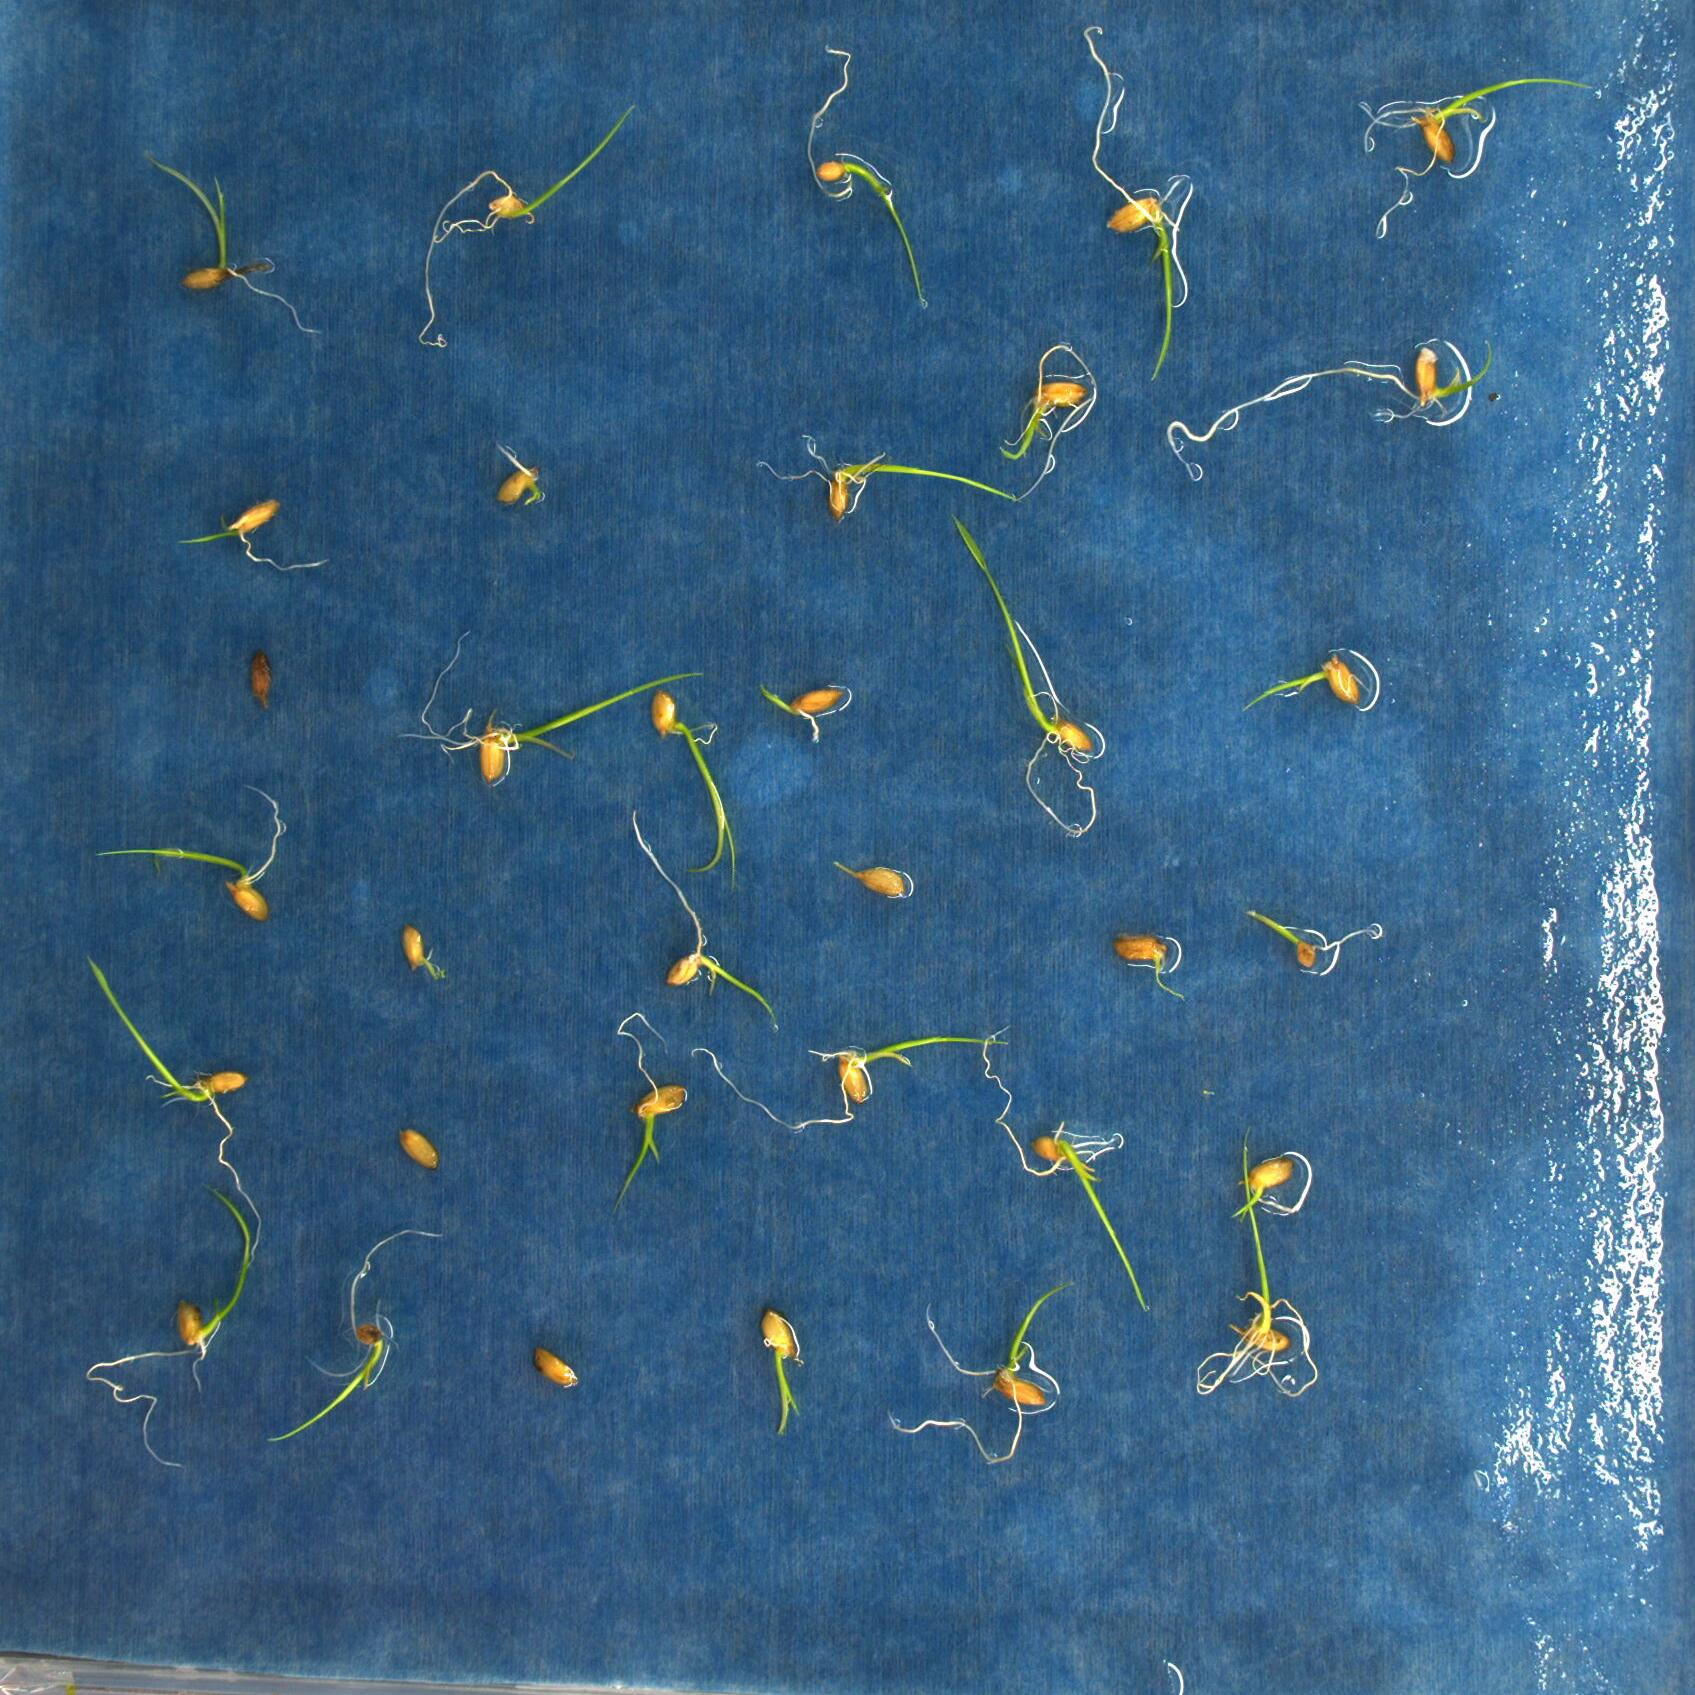not sprout: (834, 857, 913, 900), (397, 1121, 439, 1173), (539, 1346, 579, 1399), (244, 646, 276, 708)
sprout: (413, 101, 643, 349), (1159, 323, 1489, 489), (92, 962, 262, 1259), (953, 504, 1099, 834), (399, 632, 705, 789), (986, 1026, 1155, 1309), (95, 1198, 248, 1475), (1080, 26, 1191, 380), (1354, 76, 1589, 237), (278, 1231, 438, 1451), (806, 45, 931, 314), (1197, 1132, 1319, 1406), (630, 802, 779, 1028), (688, 1038, 1014, 1139), (891, 1282, 1069, 1464), (144, 158, 323, 335), (98, 781, 282, 920), (757, 428, 1003, 518), (653, 691, 745, 882), (1000, 338, 1091, 497), (618, 1012, 683, 1217), (175, 494, 324, 571), (1242, 647, 1367, 719), (1243, 903, 1372, 965), (1232, 1149, 1316, 1225), (761, 675, 851, 745), (757, 1309, 802, 1433), (1110, 936, 1187, 1000), (487, 445, 543, 508), (394, 925, 444, 976)
